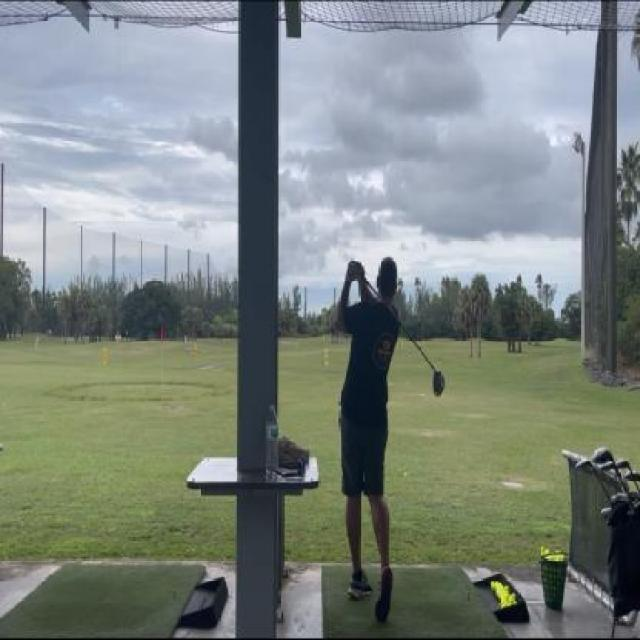club head: (431, 362, 446, 401)
